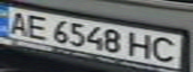4: (84, 24, 106, 52)
5: (66, 20, 87, 47)
6: (48, 17, 72, 45)
8: (103, 26, 127, 55)
A: (3, 8, 30, 36)
C: (148, 34, 184, 63)
E: (21, 12, 51, 41)
H: (127, 30, 157, 60)
